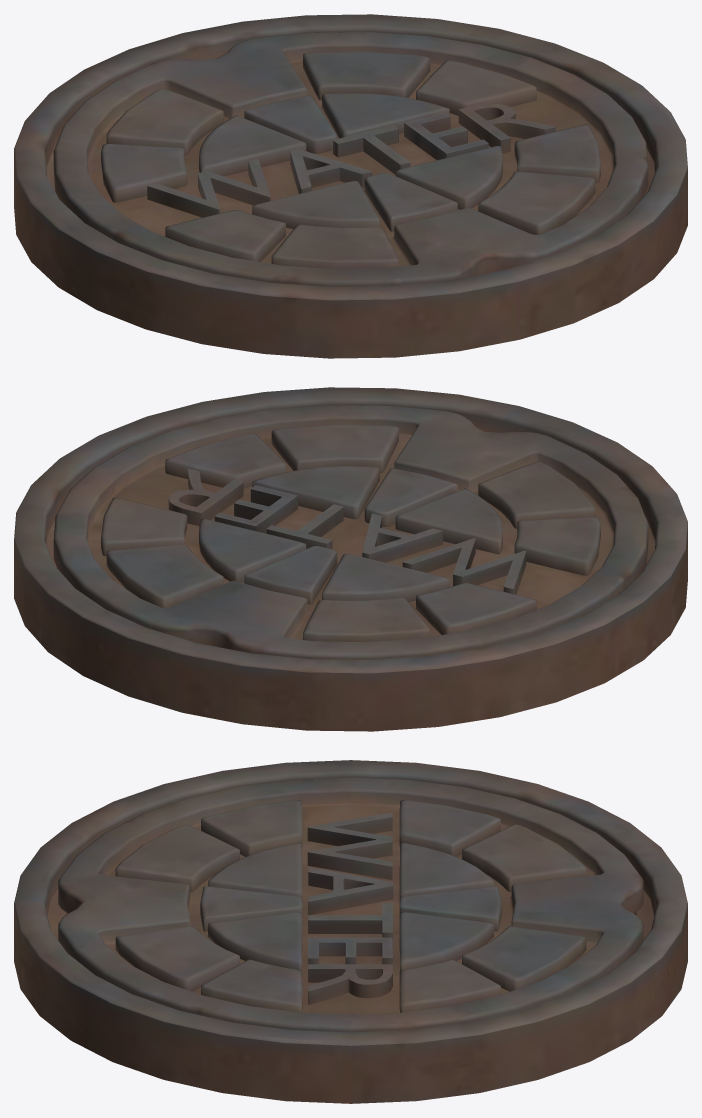
Rendered from water_manhole_cover.glb.
3 views of the same model, one above another, from view 1: azimuth 30°, elevation 25°; view 2: azimuth 150°, elevation 25°; view 3: azimuth 270°, elevation 25° (orthographic).
Visible parts, largest first — view 1: water_manhole_cover_frame; view 2: water_manhole_cover_frame; view 3: water_manhole_cover_frame.
Boxes of the visible parts, x1=… form: water_manhole_cover_frame: x1=14, y1=14, x2=687, y2=358; water_manhole_cover_frame: x1=14, y1=387, x2=687, y2=731; water_manhole_cover_frame: x1=14, y1=760, x2=687, y2=1103.
Size of the model in its own units: 0.6908 by 0.0676 by 0.6908.
1 material, 1 textured.
